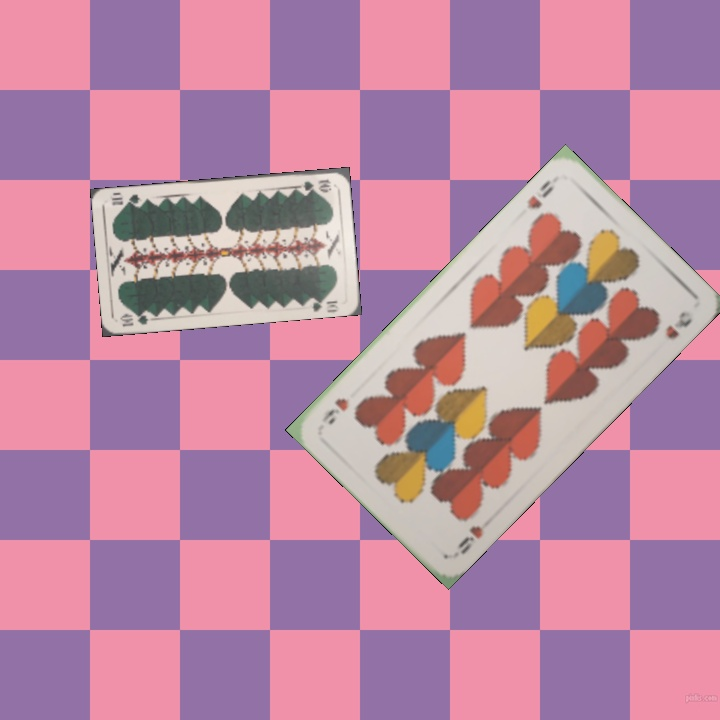G10: (116, 308, 156, 329), (294, 176, 334, 194)
H9: (453, 521, 486, 558), (523, 175, 556, 212)
